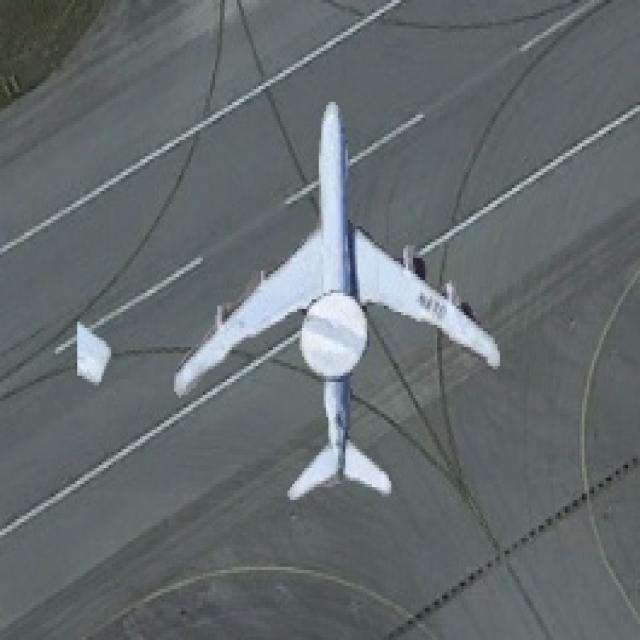E-3_TopDown: (169, 92, 502, 503)
